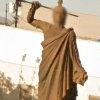Statue: (20, 3, 90, 97)
